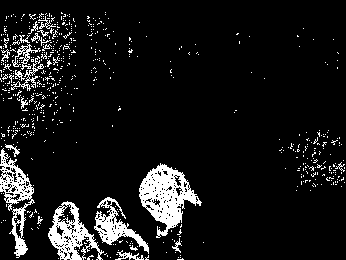person: (140, 160, 202, 256), (1, 141, 47, 255), (93, 195, 148, 260), (48, 198, 102, 260)
